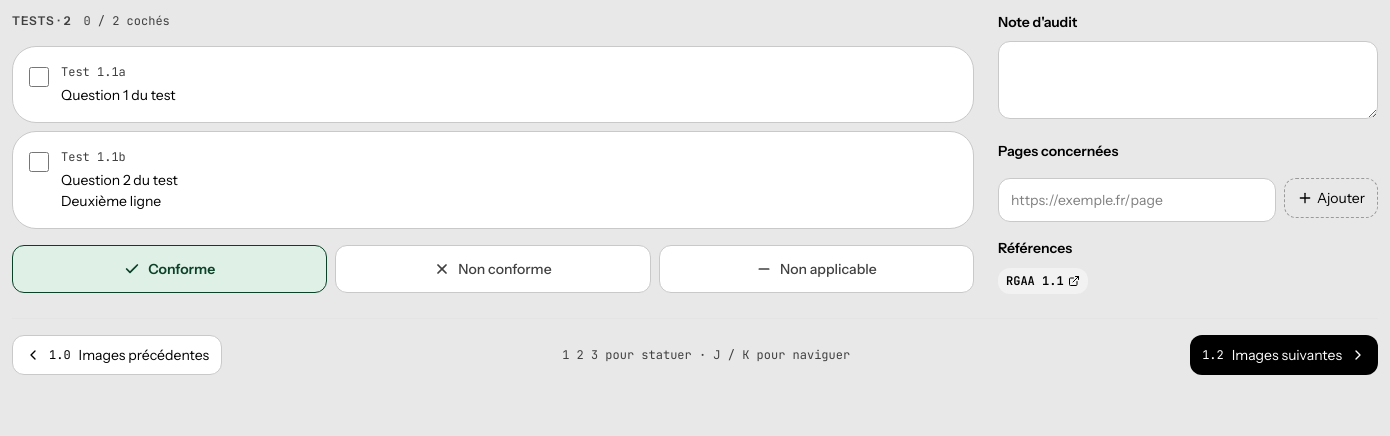
Test: CriteriaDetail › Pages concernées › refuse une adresse en javascript:alert(1)
Type "javascript:alert(1)" into the field named "Adresse de la page à ajouter" at (1137, 200), box [998,178,1276,222]
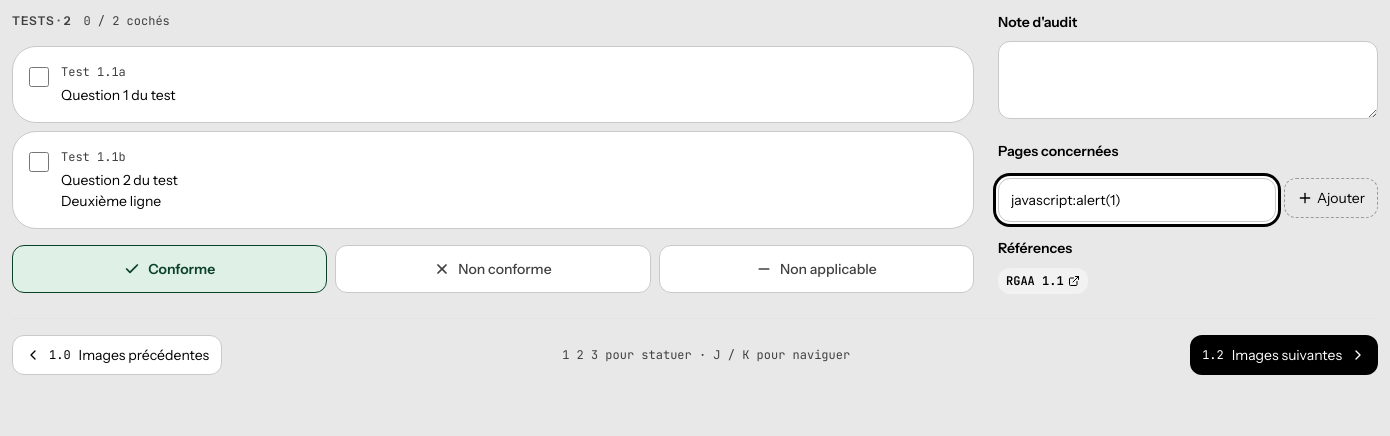
Click the button "Ajouter" at (1331, 198), box [1284,178,1378,218]
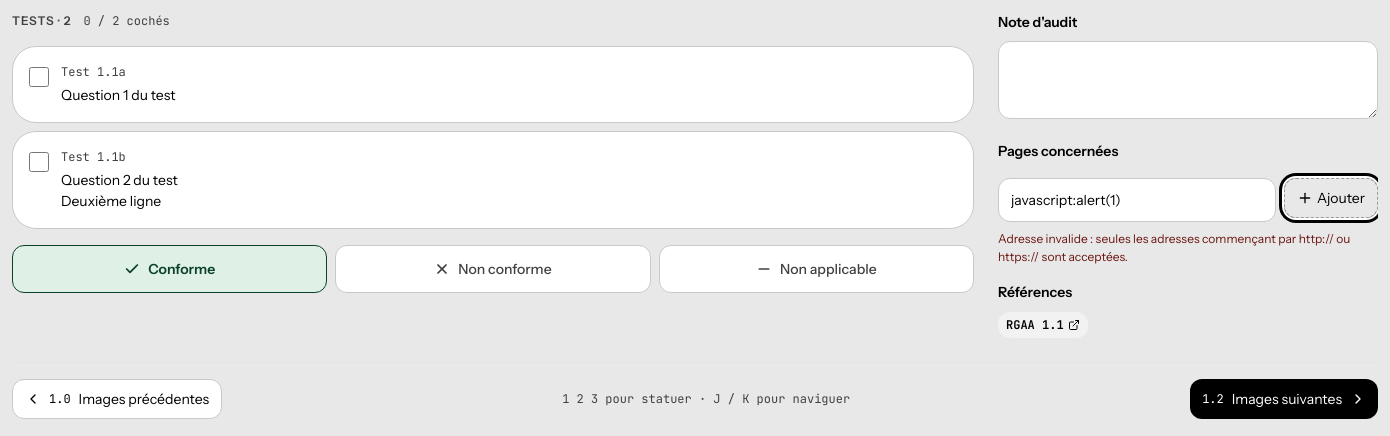
Result: the message shows "http" at [998,231,1350,264]
